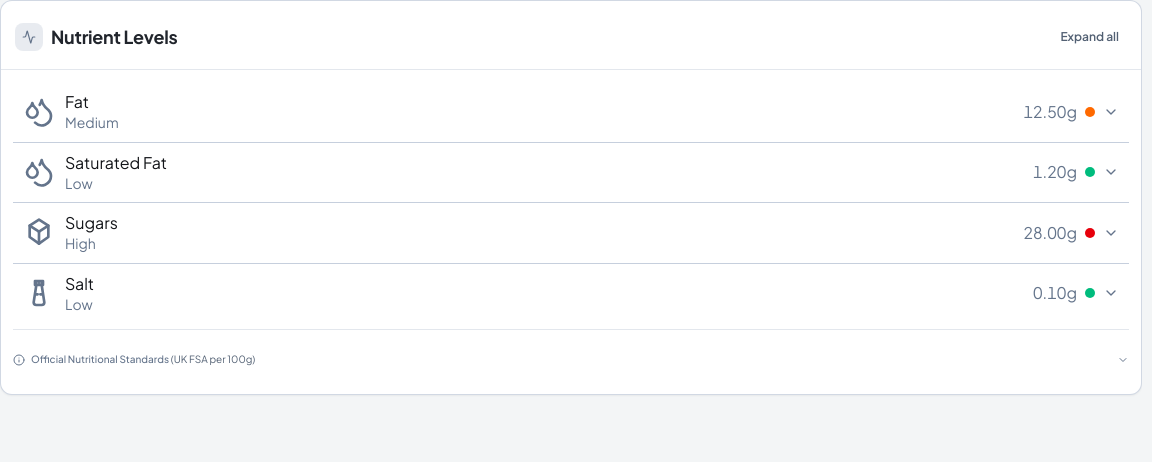
Test: NutrientLevelsCard (Yuka-style) › toggling an individual nutrient row reveals and hides its scale meter
Click the button with aria-label "fat · 12.50g per 100g medium" at (39, 112), box [13,82,1129,142]
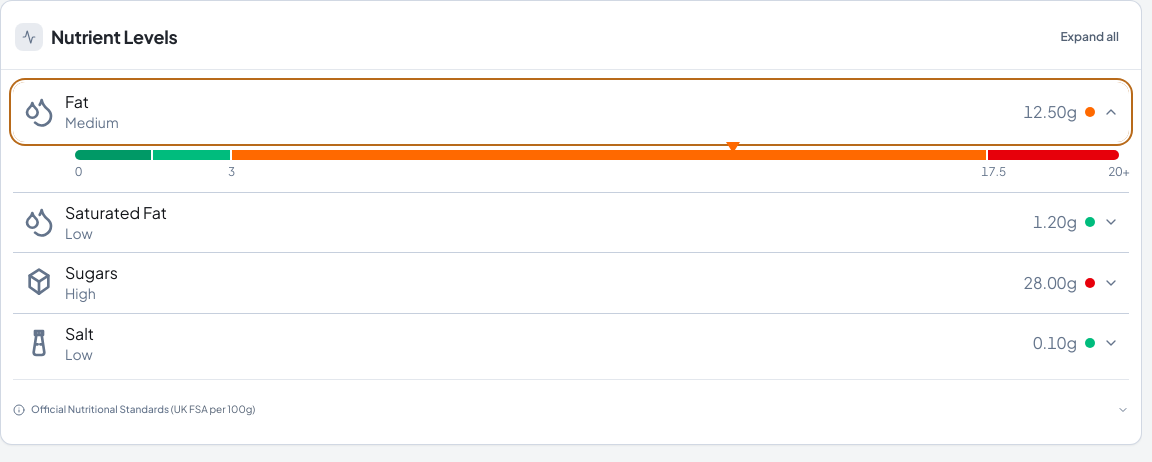
Now the button with aria-label "fat · 12.50g per 100g medium" is expanded
Now the element with test id "scale-track" is shown, box [75,150,1119,160]
Now the element with test id "scale-needle" is shown, box [726,142,740,152]
// Click again to collapse
Click the button with aria-label "fat · 12.50g per 100g medium" at (39, 112), box [13,82,1129,142]
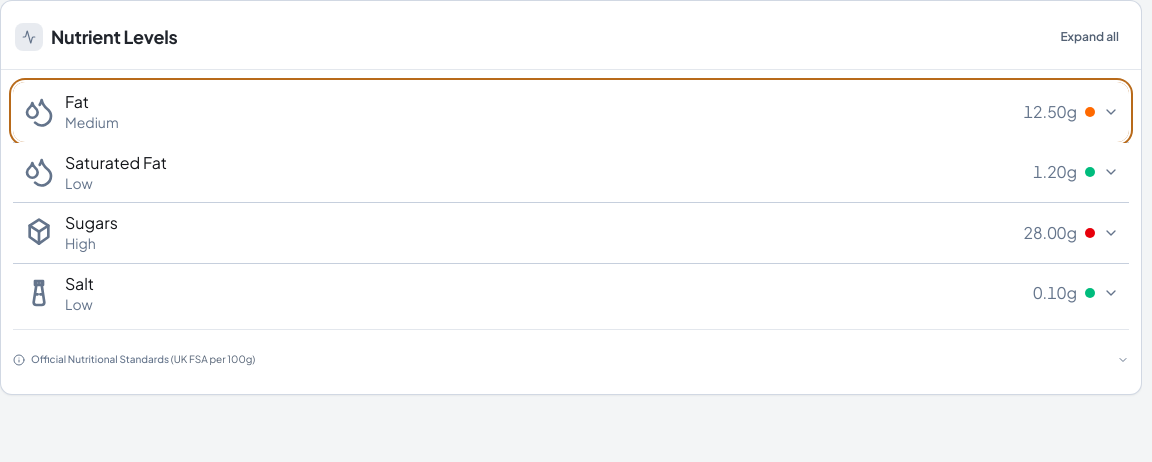
Now the button with aria-label "fat · 12.50g per 100g medium" is collapsed, box [13,82,1129,142]
Now the element with test id "scale-track" is gone
